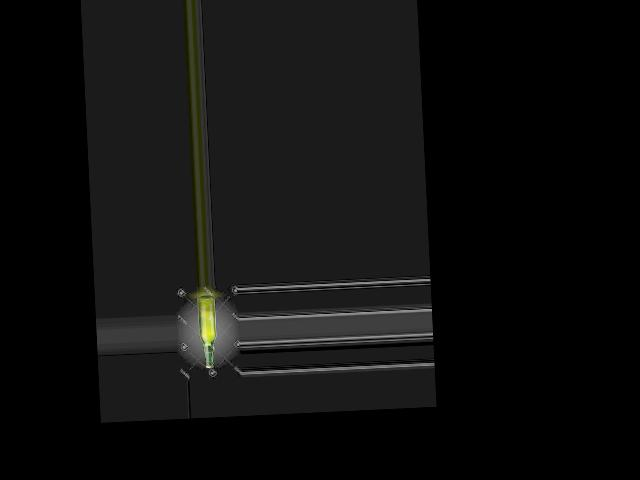beer: (198, 295, 218, 368)
